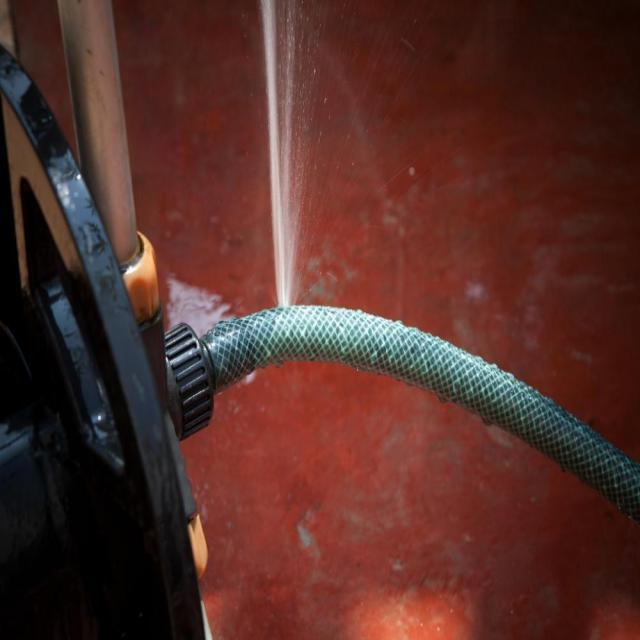pipe burst: (261, 0, 342, 315)
